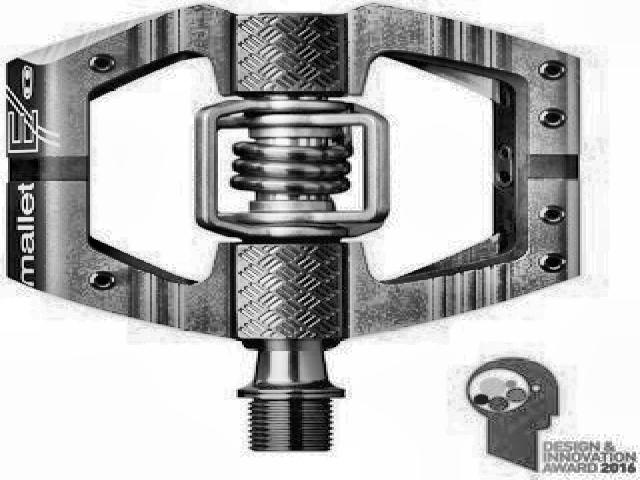pedal: (10, 5, 586, 451)
